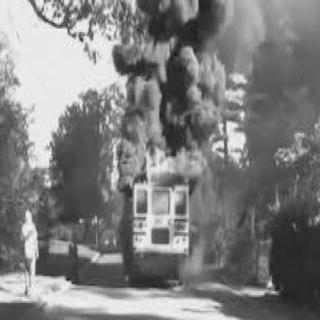Fire: (129, 106, 179, 176)
Smoke: (111, 1, 265, 191)
